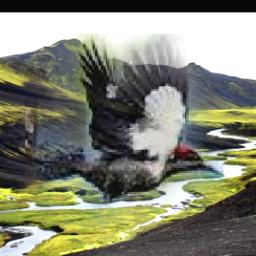Woodpecker: (26, 33, 225, 232)
